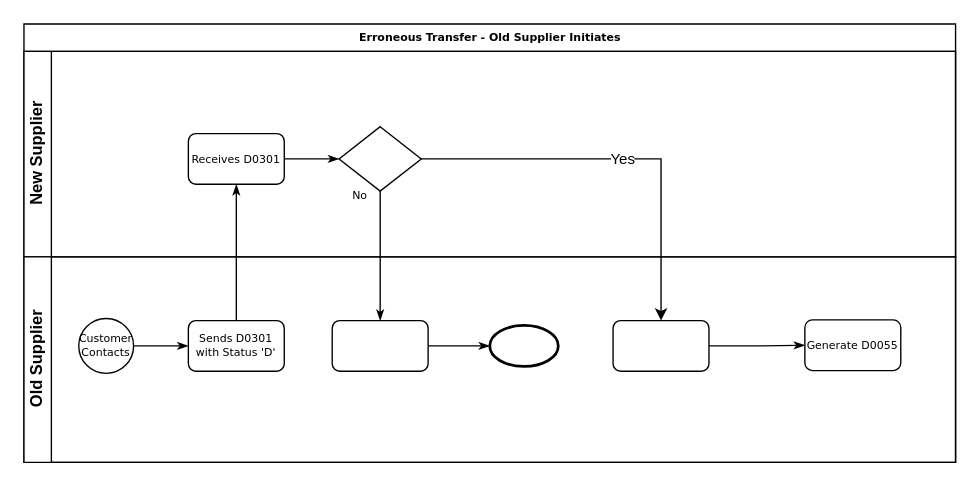
Image size: 980x486. Some labels were removed from this diagram. Here are the shapes that lost their labels. From the top down, the centre of each, then its label:
pixel 379 158: AcceptsET?
pixel 379 345: Receives D0301 with Status 'C'
pixel 523 345: Contact Customer
pixel 660 345: Receives D0301 with Status 'B'
